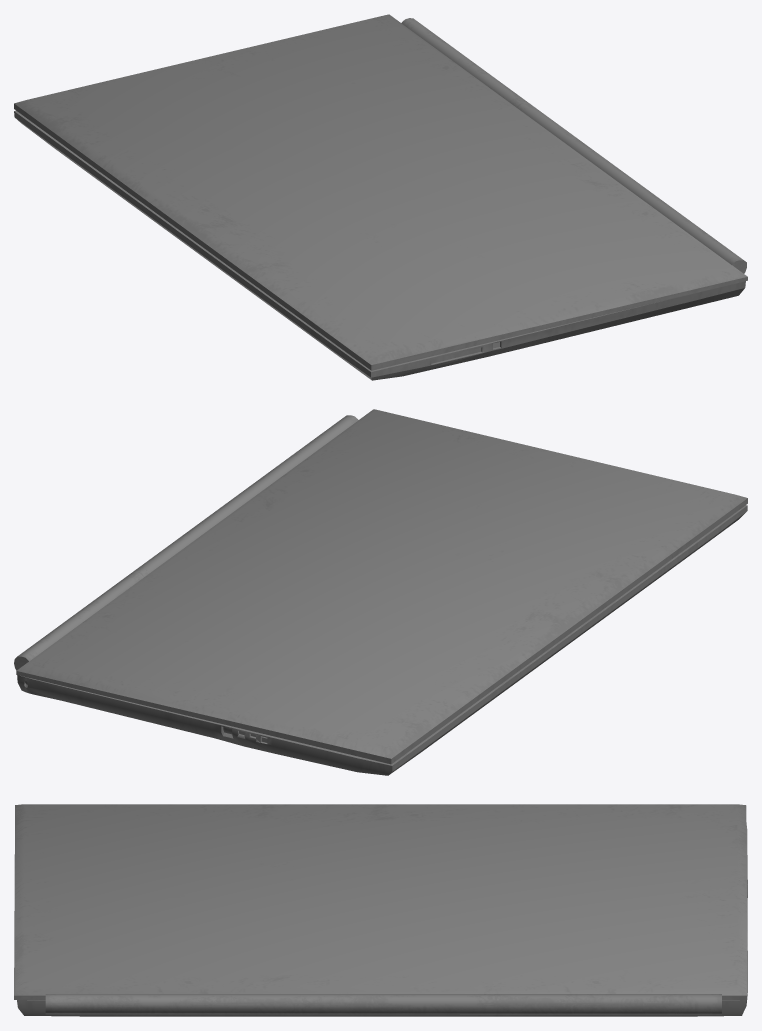
Rendered from SM_Laptop_A2.fbx.
The picture shows the model from 3 angles, top to bottom: view 1: azimuth 30°, elevation 25°; view 2: azimuth 150°, elevation 25°; view 3: azimuth 270°, elevation 25°; orthographic projection. The views are drawn at different scales.
Parts seen in each view (by area): view 1: SM_Laptop_A2; view 2: SM_Laptop_A2; view 3: SM_Laptop_A2.
Boxes of the visible parts, x1,y1,x2,y2 form: SM_Laptop_A2: (14, 14, 747, 380); SM_Laptop_A2: (14, 409, 747, 775); SM_Laptop_A2: (14, 804, 747, 1016).
Size of the model in its own units: 28.67 by 45.56 by 2.23.
1 material, 1 textured.
